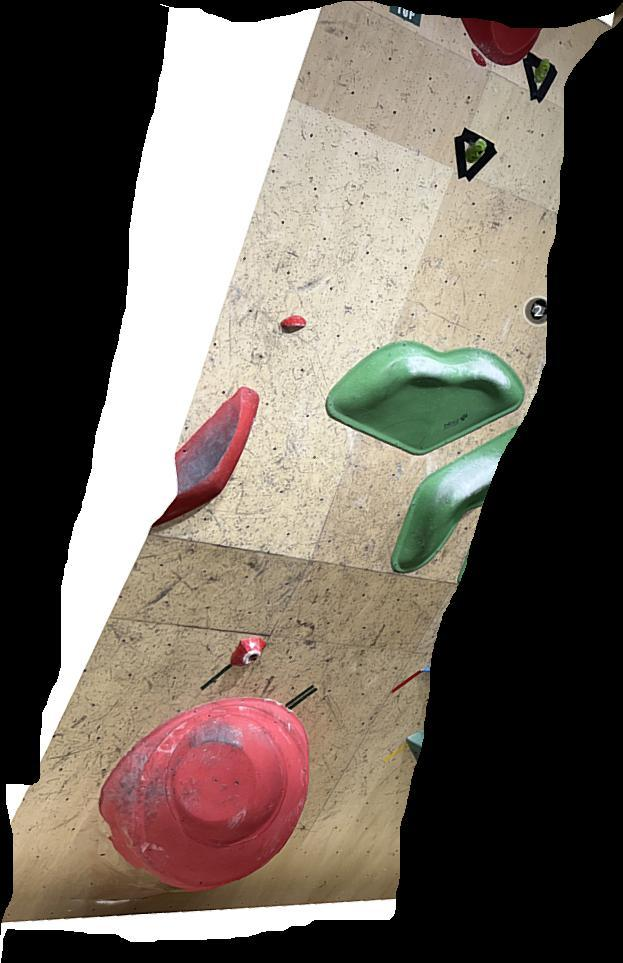hold: (100, 697, 309, 891), (327, 340, 525, 455), (390, 425, 519, 573), (151, 386, 259, 526), (461, 18, 542, 66), (454, 127, 498, 182), (523, 52, 559, 104), (230, 636, 267, 667), (280, 315, 306, 328), (471, 48, 487, 67), (420, 666, 431, 672)
volume: (406, 729, 424, 760)
